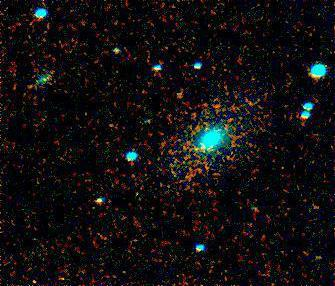star: (181, 138, 211, 168)
